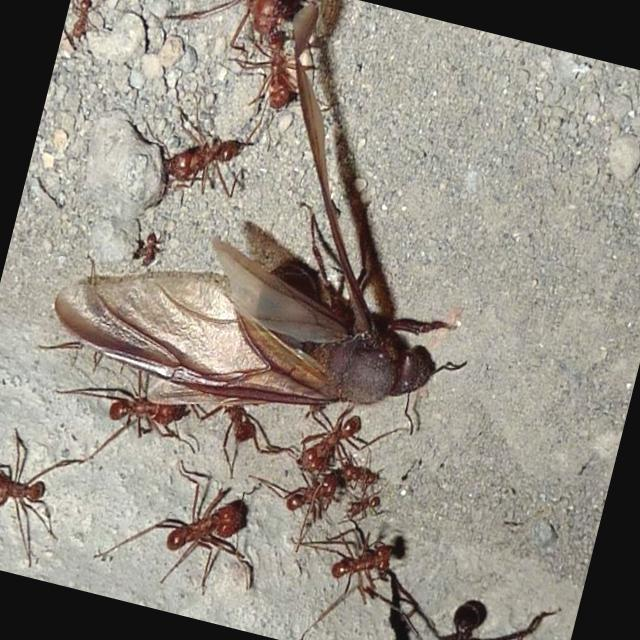Alive-Female-Alate: (35, 0, 543, 476)
